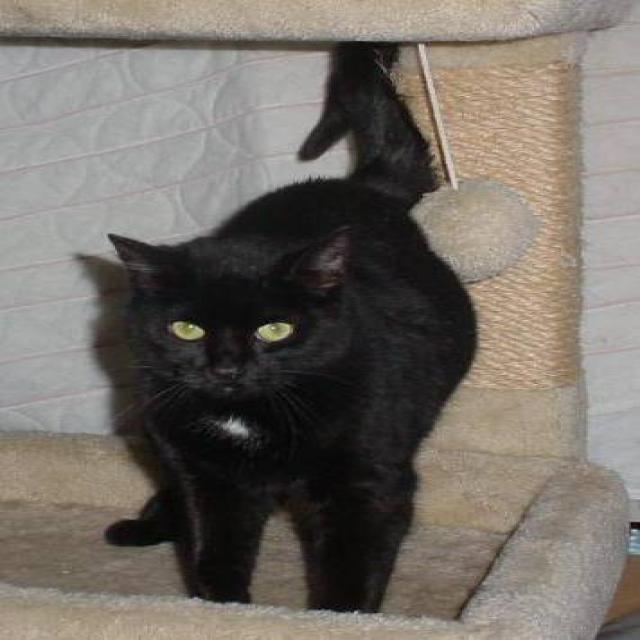cat: (101, 40, 478, 614)
